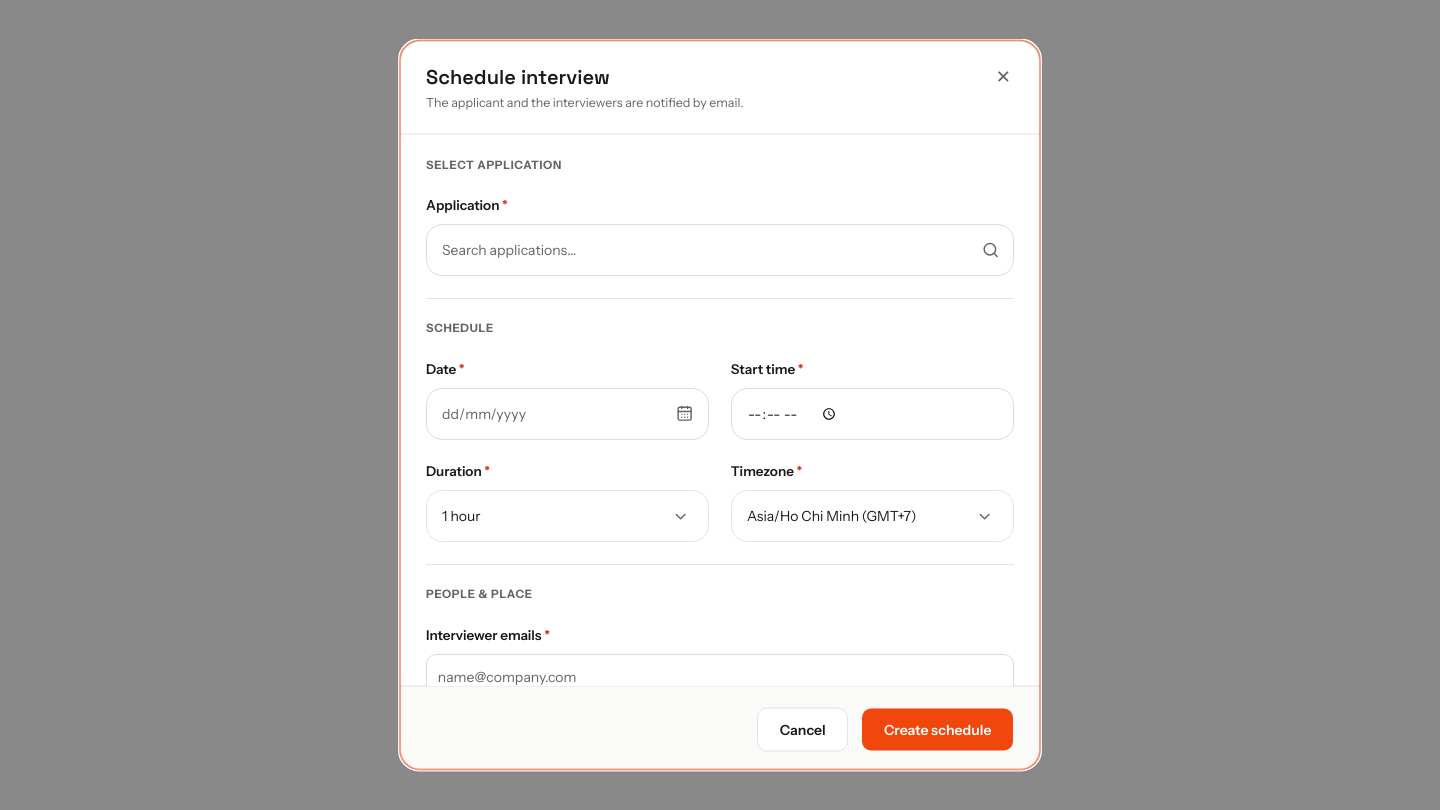
Test case: Schedule interview dialog › sends nothing and says what is missing when submitted empty
Click the button "Create schedule". click: coordinates (938, 729)
box: x1=861 y1=708 x2=1014 y2=751
(page scrolled)
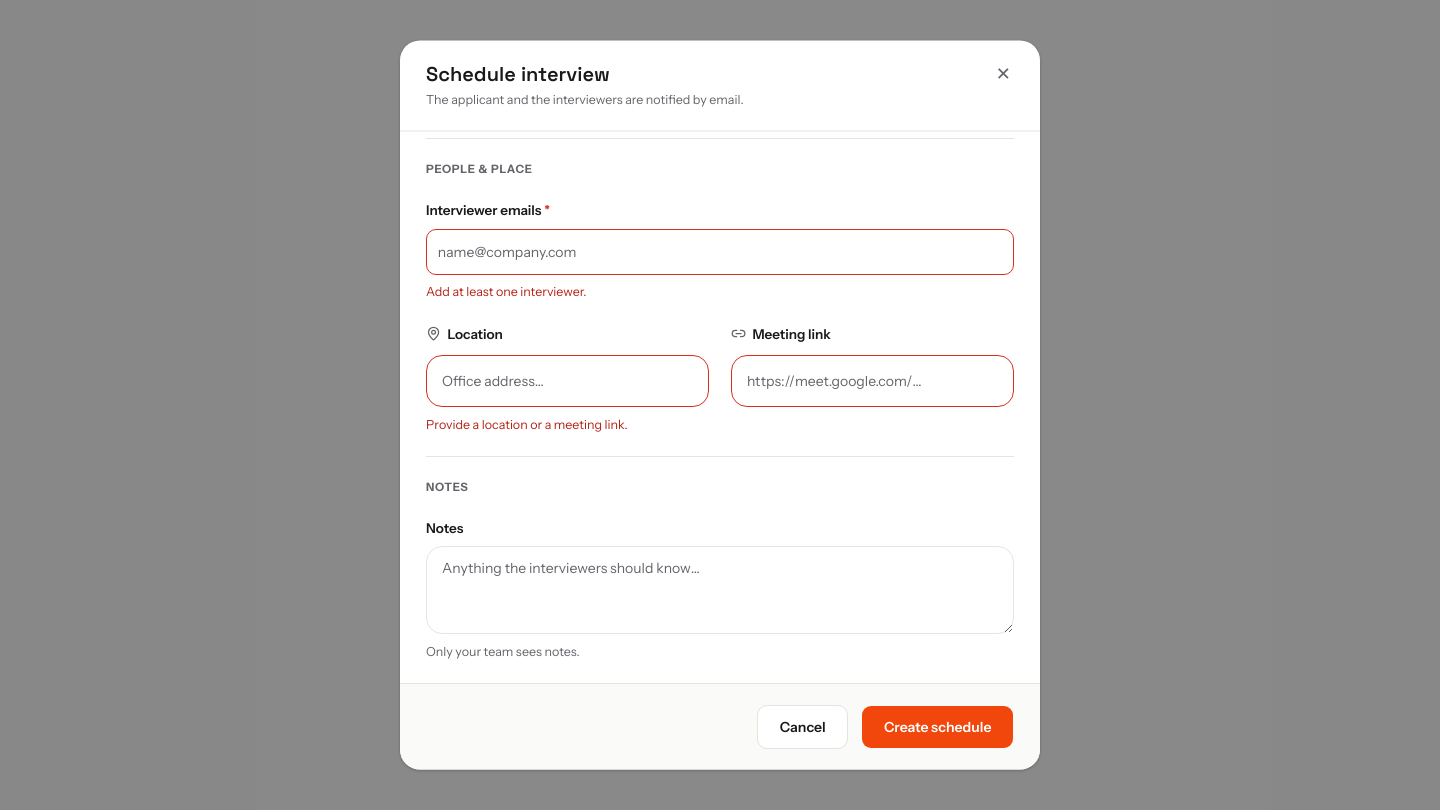
Result: the text "Add at least one interviewer." is shown at x1=426 y1=284 x2=586 y2=299
Result: the text "Provide a location or a meeting link." is shown at x1=426 y1=416 x2=628 y2=431
